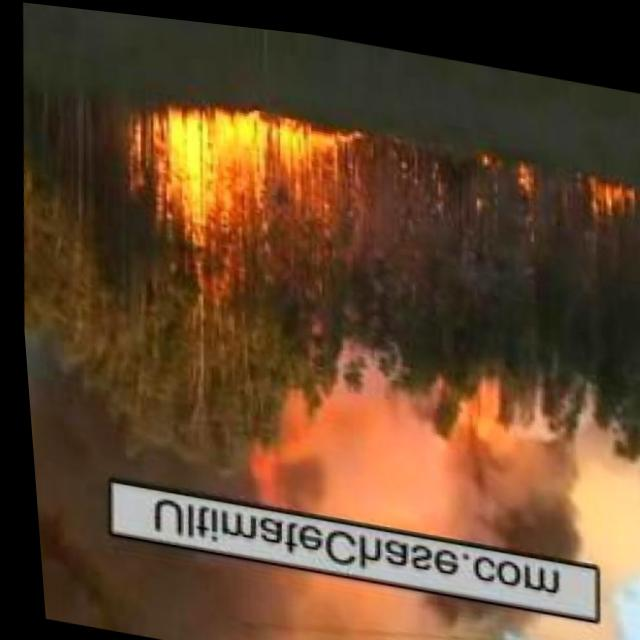Fire: (138, 95, 347, 219), (450, 369, 515, 431), (240, 409, 289, 487), (574, 160, 636, 206), (470, 142, 536, 179)
